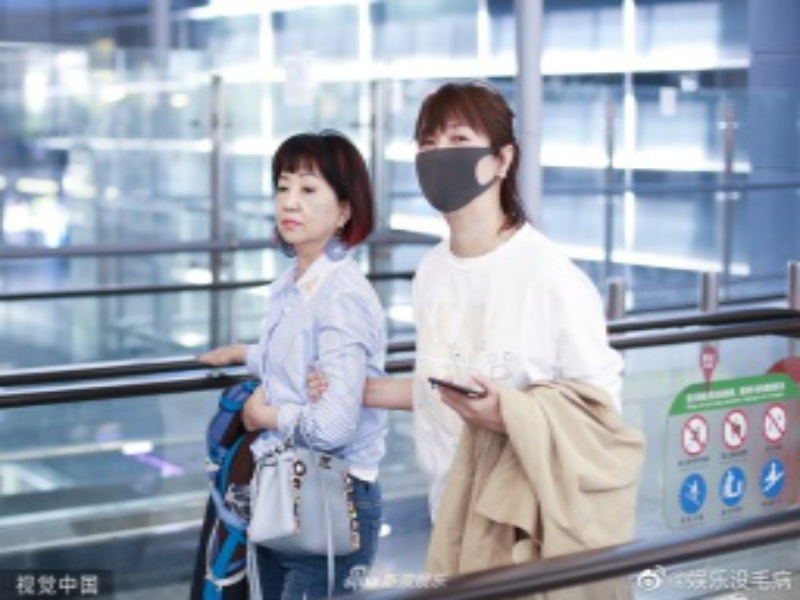ManaoArotava: (410, 73, 526, 229)
TsisyArotava: (254, 130, 368, 265)
